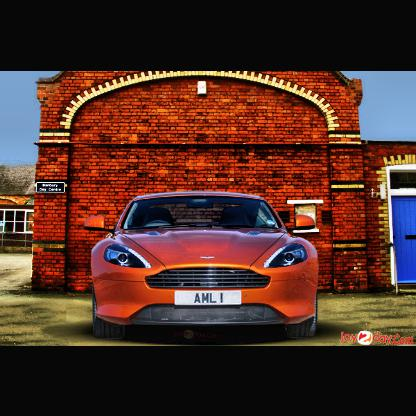Aston Martin Virage Coupe 2012: (84, 190, 321, 342)
